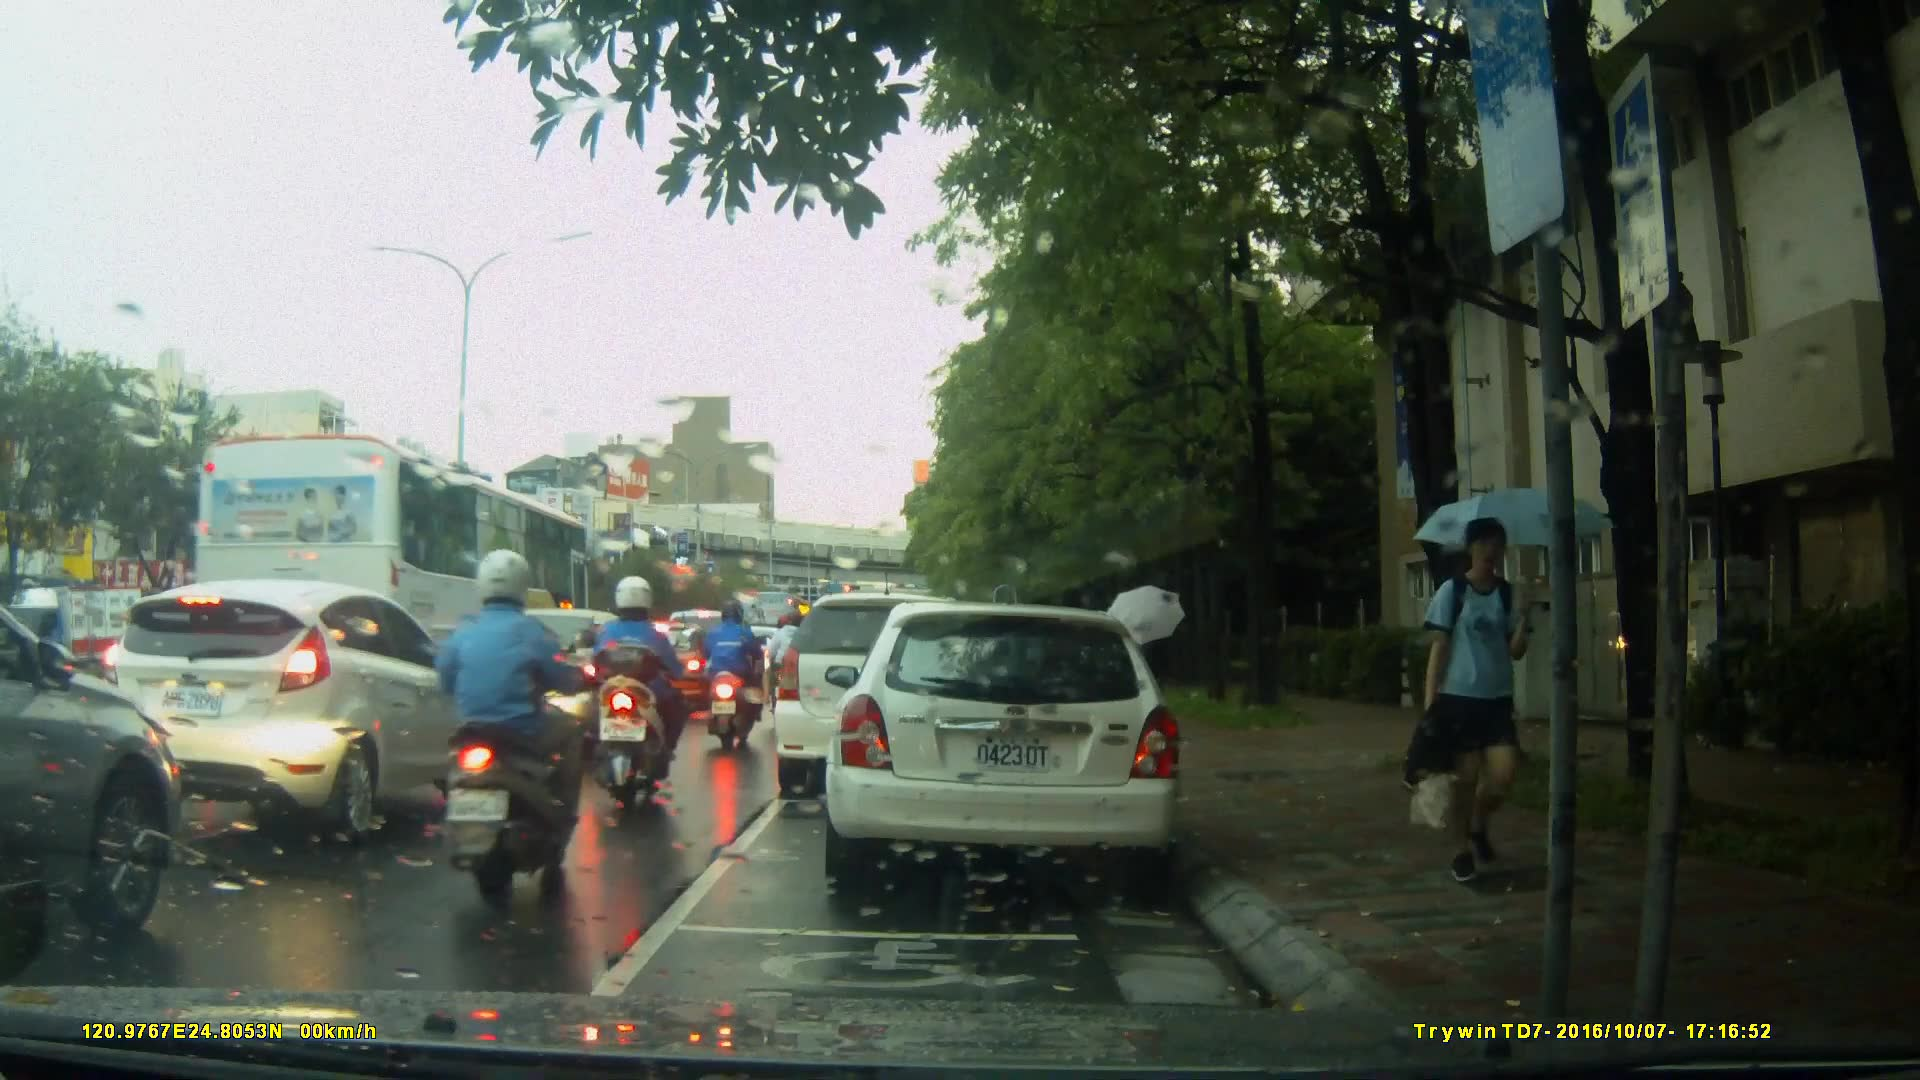pedestrian: (1401, 515, 1558, 895)
rider: (394, 539, 590, 907), (587, 579, 704, 810), (694, 601, 759, 759)
vehicle: (191, 430, 602, 716), (835, 594, 1194, 898), (99, 576, 487, 846), (1, 547, 184, 971), (776, 590, 1026, 784), (431, 606, 670, 749), (1, 586, 155, 697), (608, 619, 713, 709)
